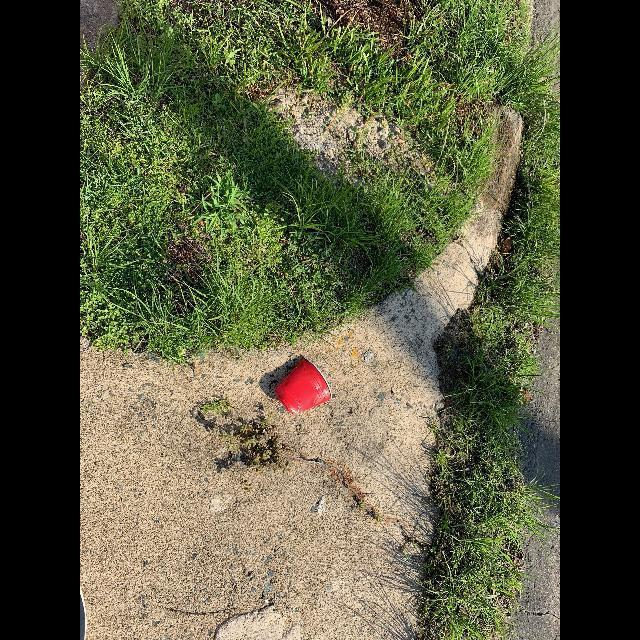Plastic: (276, 356, 332, 414)
